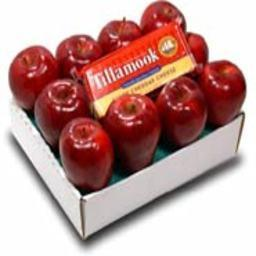apple: (106, 94, 161, 176), (59, 118, 113, 191), (158, 77, 207, 150), (7, 45, 59, 113), (34, 78, 88, 143), (201, 59, 246, 125), (55, 35, 100, 76), (139, 1, 186, 33), (96, 18, 142, 50)
